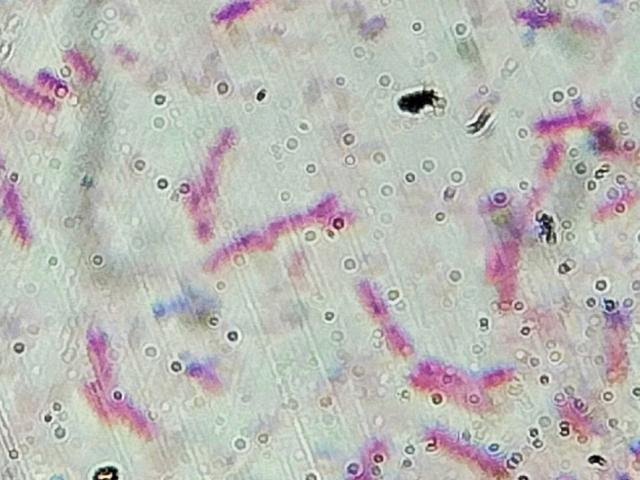E. coli: (185, 127, 230, 234), (426, 427, 521, 475), (356, 280, 413, 357), (515, 146, 567, 208), (2, 172, 40, 253), (482, 240, 525, 304), (419, 376, 486, 414), (269, 197, 344, 230), (3, 75, 54, 121), (522, 9, 598, 39), (353, 427, 397, 478), (116, 399, 170, 439), (555, 399, 600, 445), (209, 237, 264, 271), (593, 183, 640, 222), (531, 102, 596, 130), (213, 0, 262, 31), (82, 335, 119, 375), (66, 47, 107, 81), (592, 121, 624, 159), (78, 386, 106, 424), (482, 360, 521, 386), (41, 65, 68, 93)
